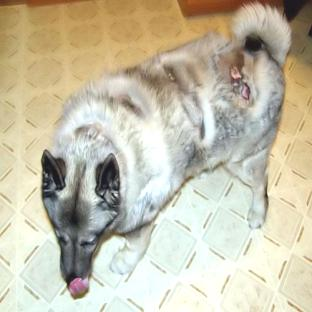Animal: (41, 2, 291, 294)
